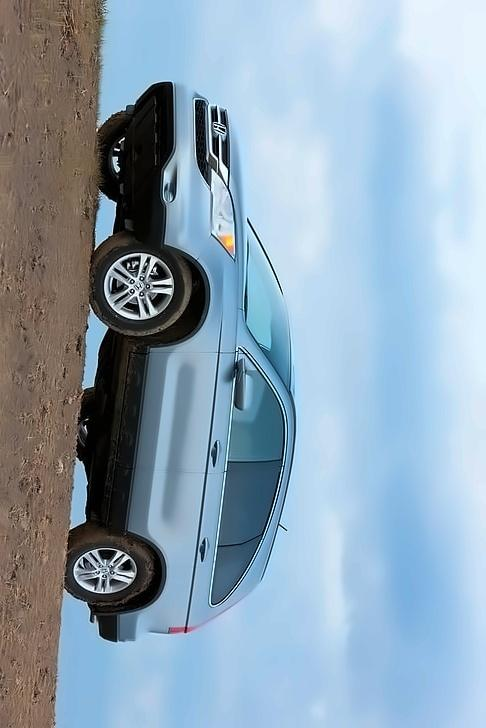Car hood: (223, 109, 255, 317)
Fender - -F-L-: (132, 235, 258, 353)
Fender - -R-L-: (150, 558, 229, 624)
Front bumper: (125, 76, 207, 271)
Headlight - -L-: (203, 160, 242, 265)
Passenger-s door - -F-L-: (133, 353, 289, 470)
Passenger-s door - -R-L-: (124, 471, 287, 566)
Rear bumper: (85, 599, 156, 656)
Rear light - -L-: (160, 619, 206, 640)
Side bumper - -L-: (96, 323, 155, 551)
Side mirror - -L-: (228, 346, 262, 421)
